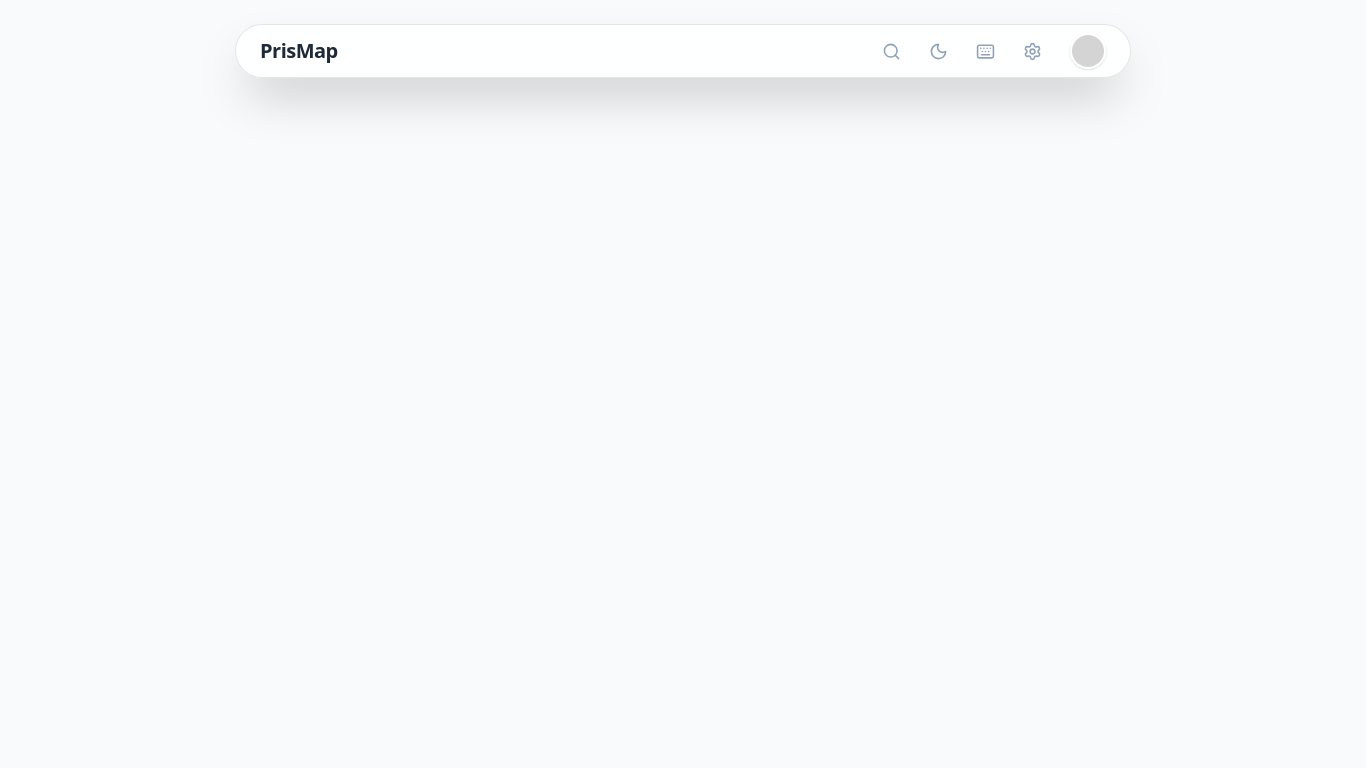
Scenario: Navbar Interaction Tests › filters projects in search
// Open search first
Click the button named "Search". click: [892, 51]
box: [874,34,909,68]
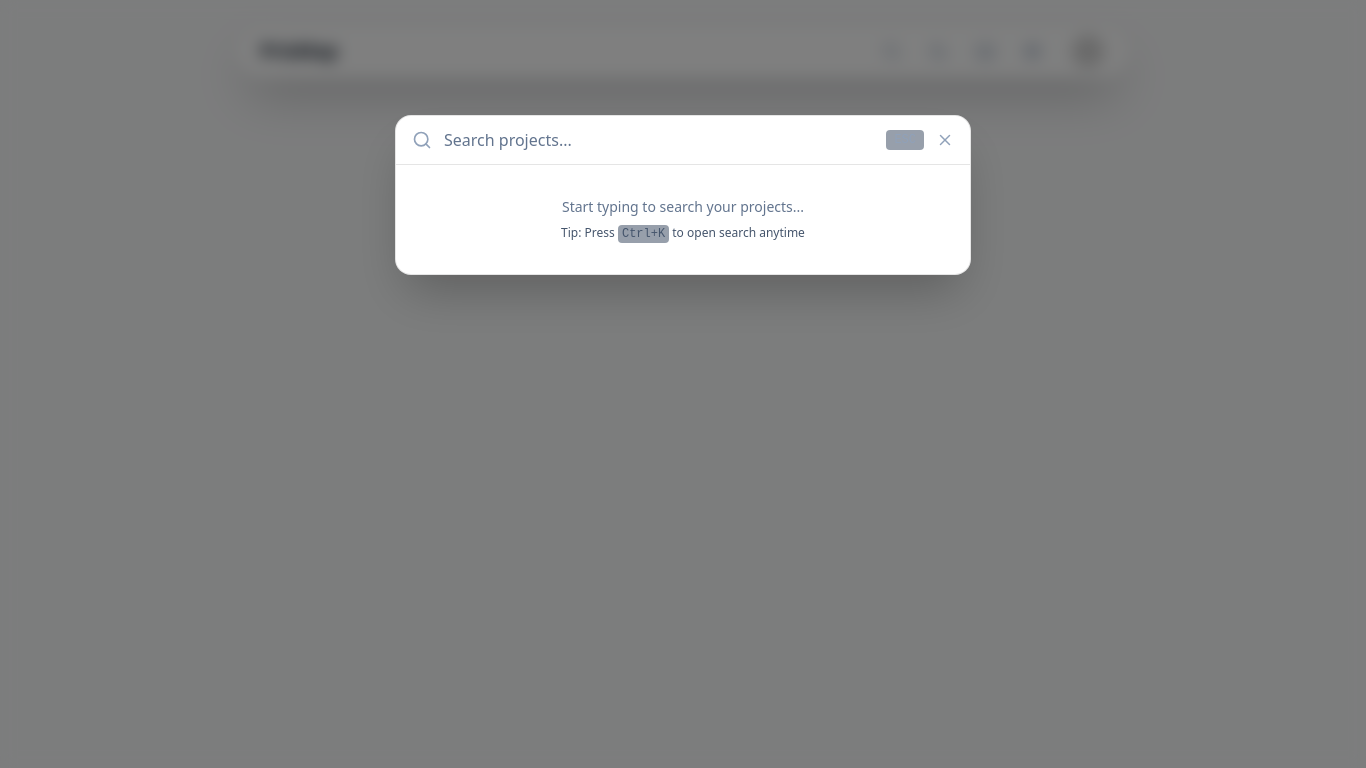
// Type 'Alpha'
Type "Alpha" into the field with placeholder "Search projects...". click: [659, 140]
box: [444,128,874,152]
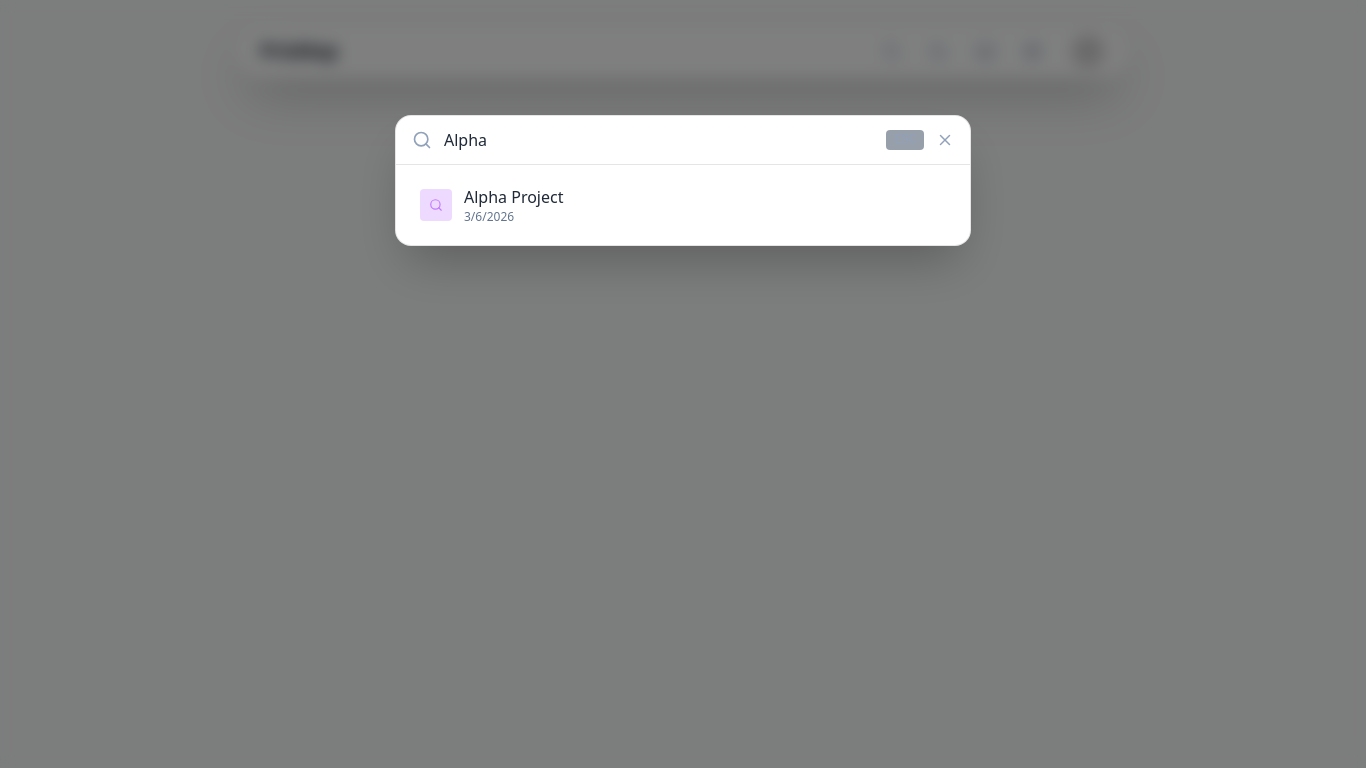
Check: the text "Alpha Project" is shown, box [464,185,564,209]
